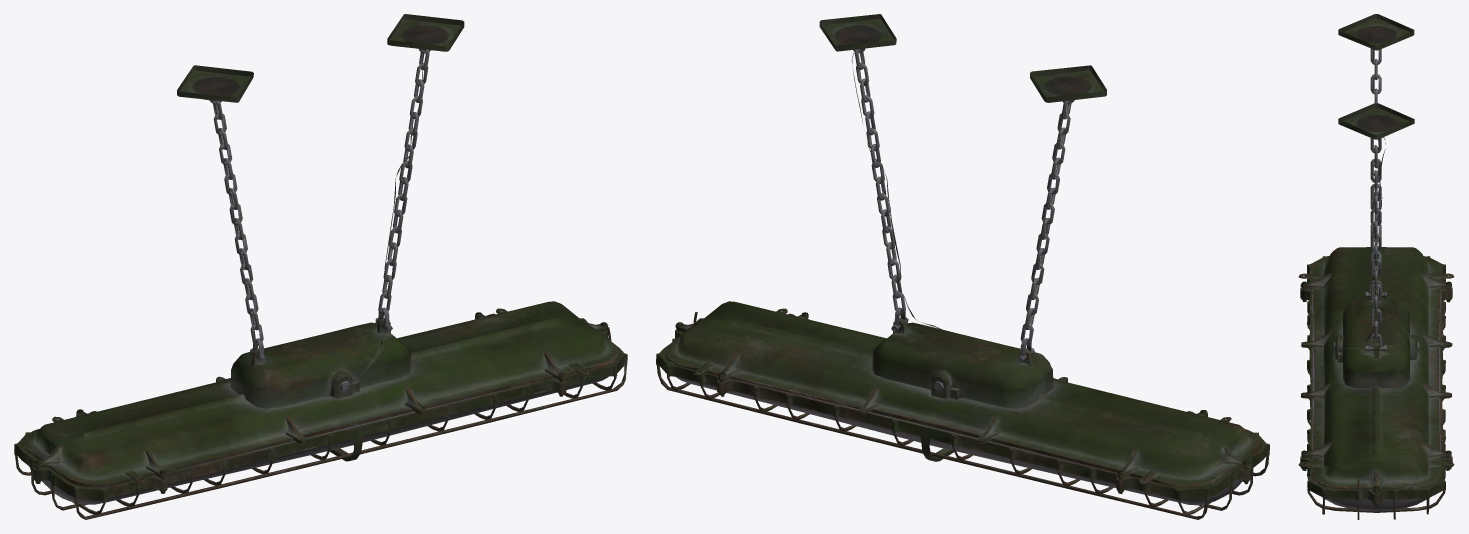
File: caged_hanging_light.4d348585.glb
3 renders of one model, left to right at view 1: azimuth 30°, elevation 25°; view 2: azimuth 150°, elevation 25°; view 3: azimuth 270°, elevation 25°, orthographic. The views are drawn at different scales.
Parts seen in each view (by area): view 1: caged_hanging_light; view 2: caged_hanging_light; view 3: caged_hanging_light.
Part boxes in pixels (x1,y1,x2,y2): caged_hanging_light: [14, 14, 627, 519]; caged_hanging_light: [656, 14, 1269, 519]; caged_hanging_light: [1298, 14, 1454, 519].
Size of the model in its own units: 0.95 by 0.6133 by 0.2575.
1 material, 1 textured.
